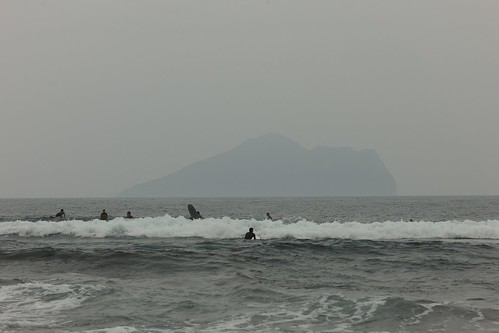turtleIsland: (114, 133, 400, 196)
